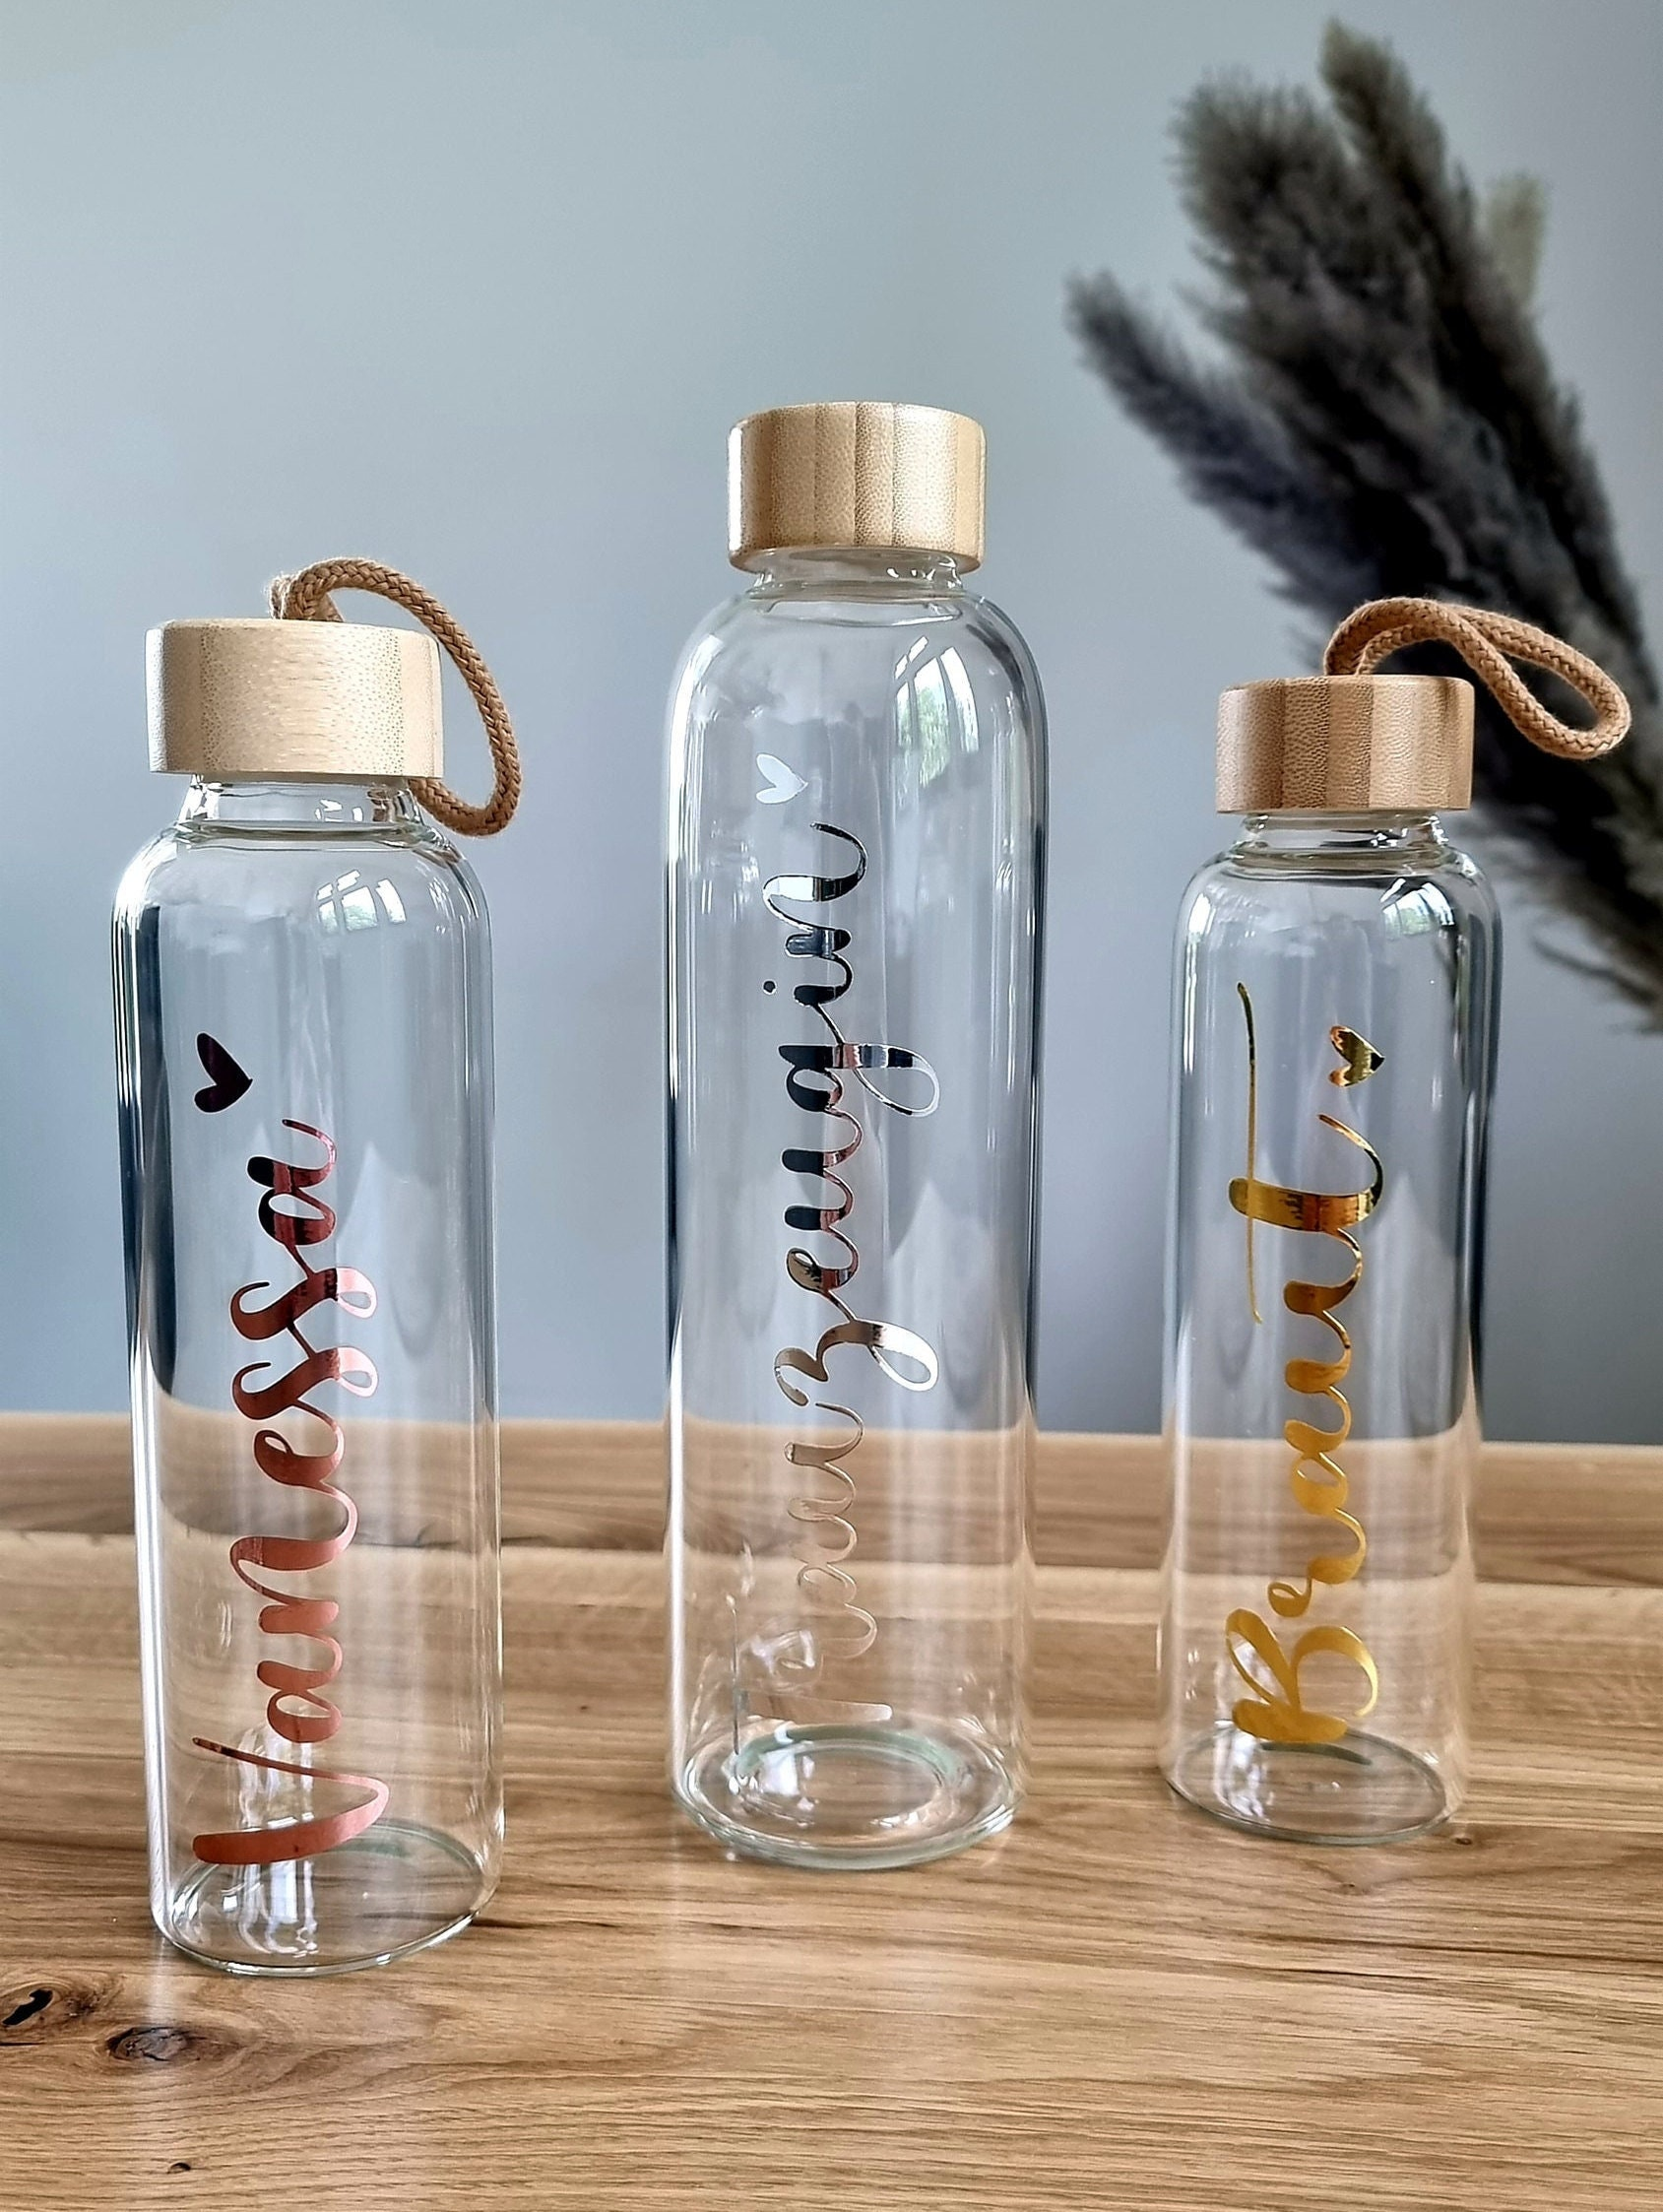glass_bottle: (617, 377, 1076, 1906), (77, 531, 543, 2001), (1134, 566, 1525, 1899)
